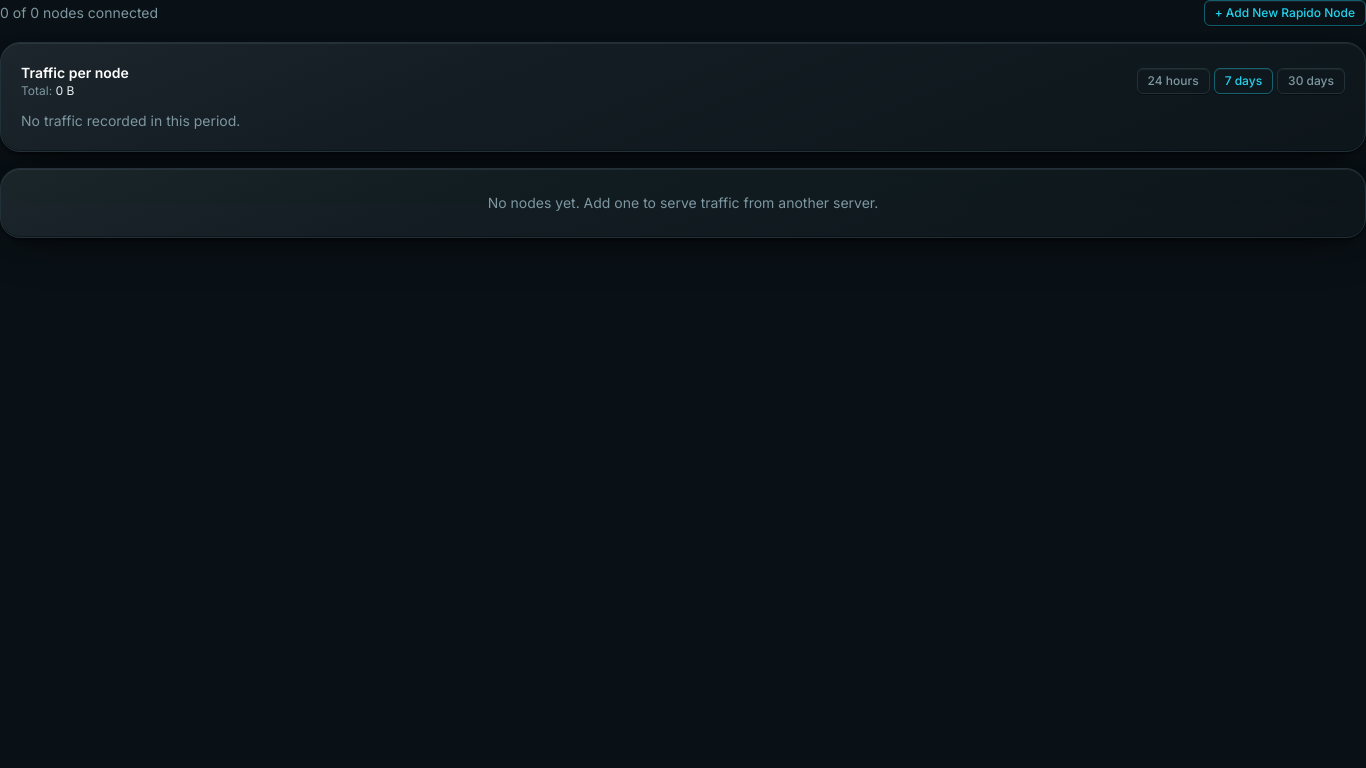
Advanced section of the node form › names the field for a rejected port list and a rejected inbound tag too
Click the button "+ Add New Rapido Node" at (1285, 13), box [1204,0,1365,26]
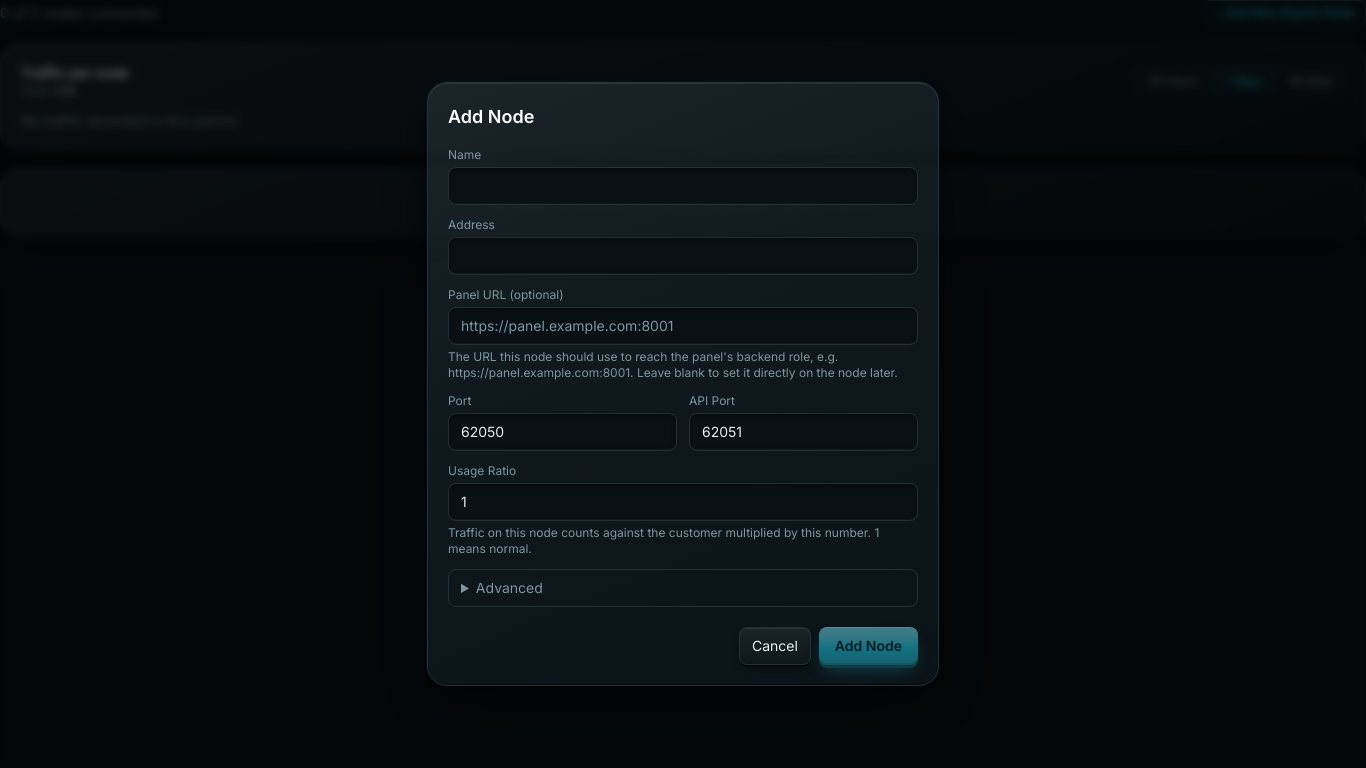
Type "fresh" into the field labelled "Name" at (683, 186), box [448,167,918,205]
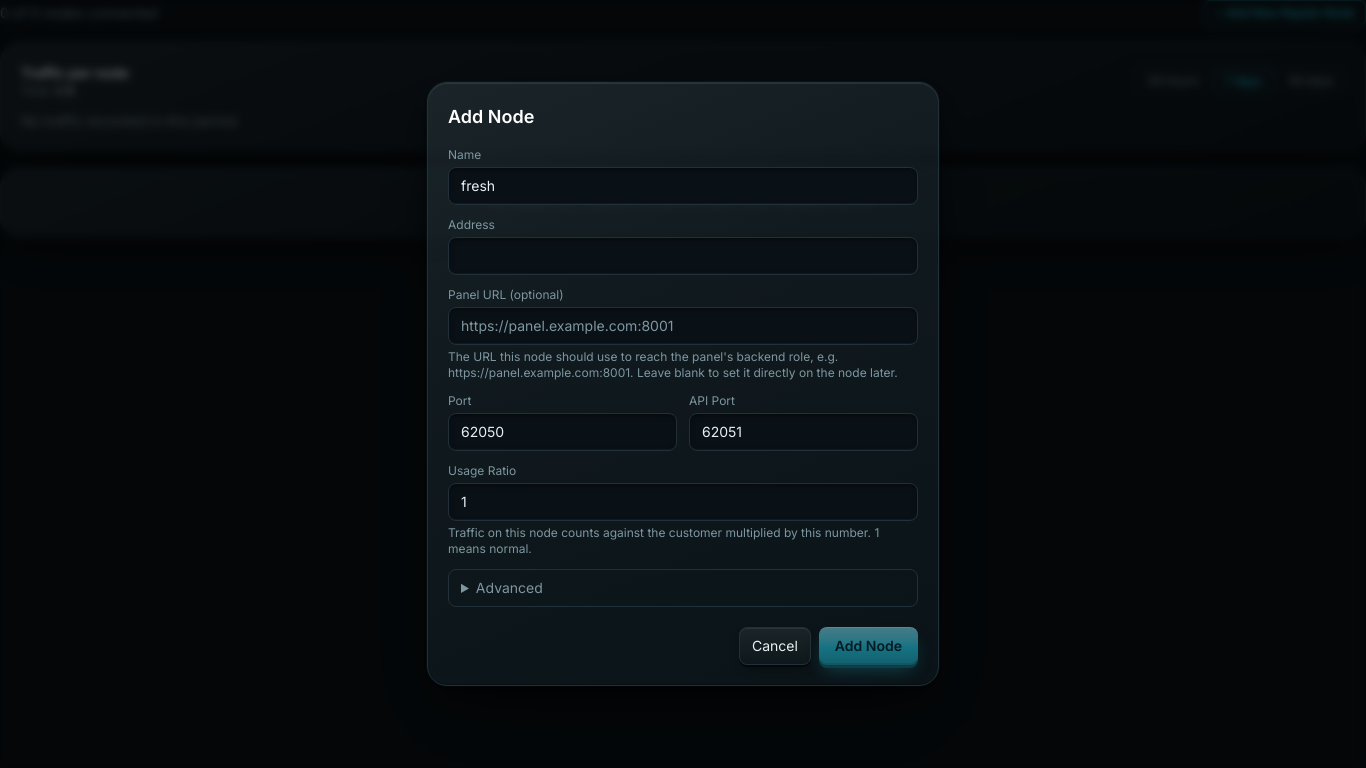
Type "203.0.113.5" into the field labelled "Address" at (683, 256), box [448,237,918,275]
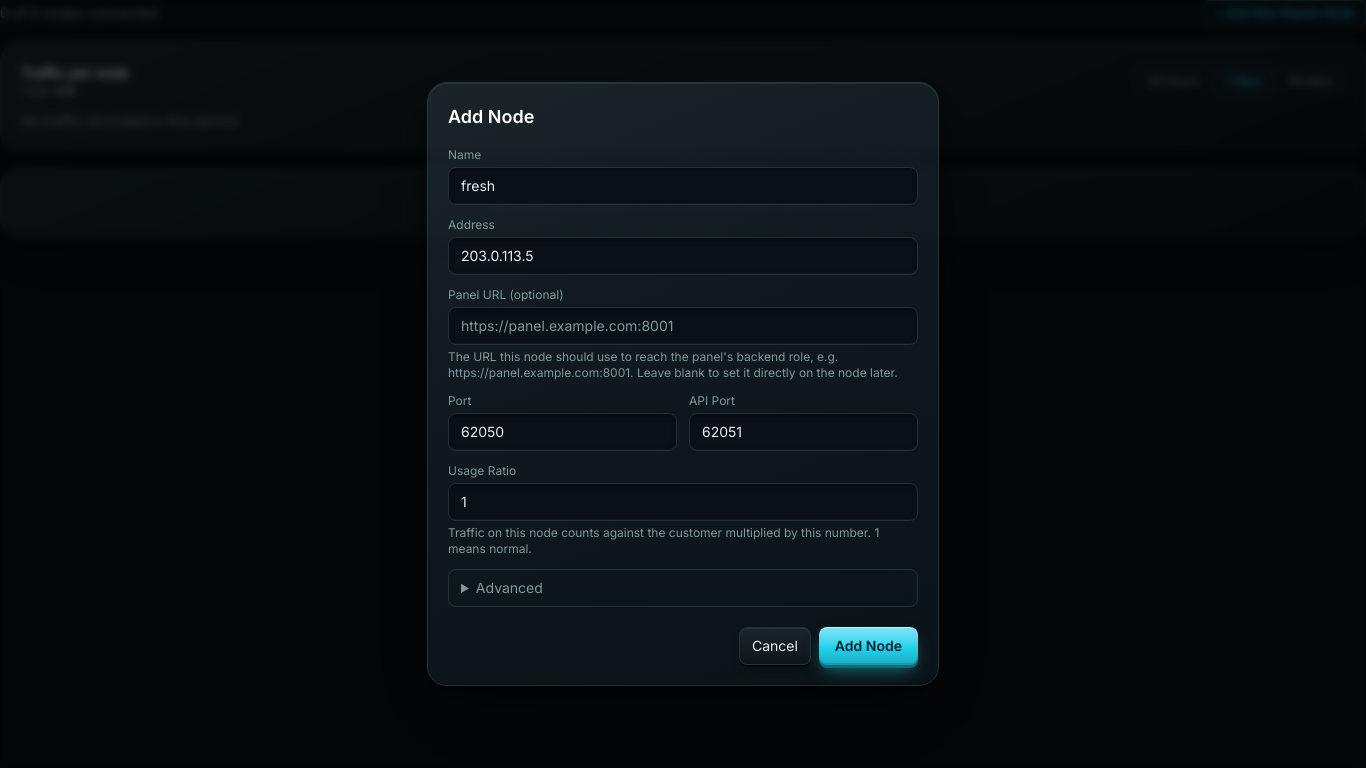
Click the button "Add Node" at (868, 646), box [819,627,918,665]
(page scrolled)
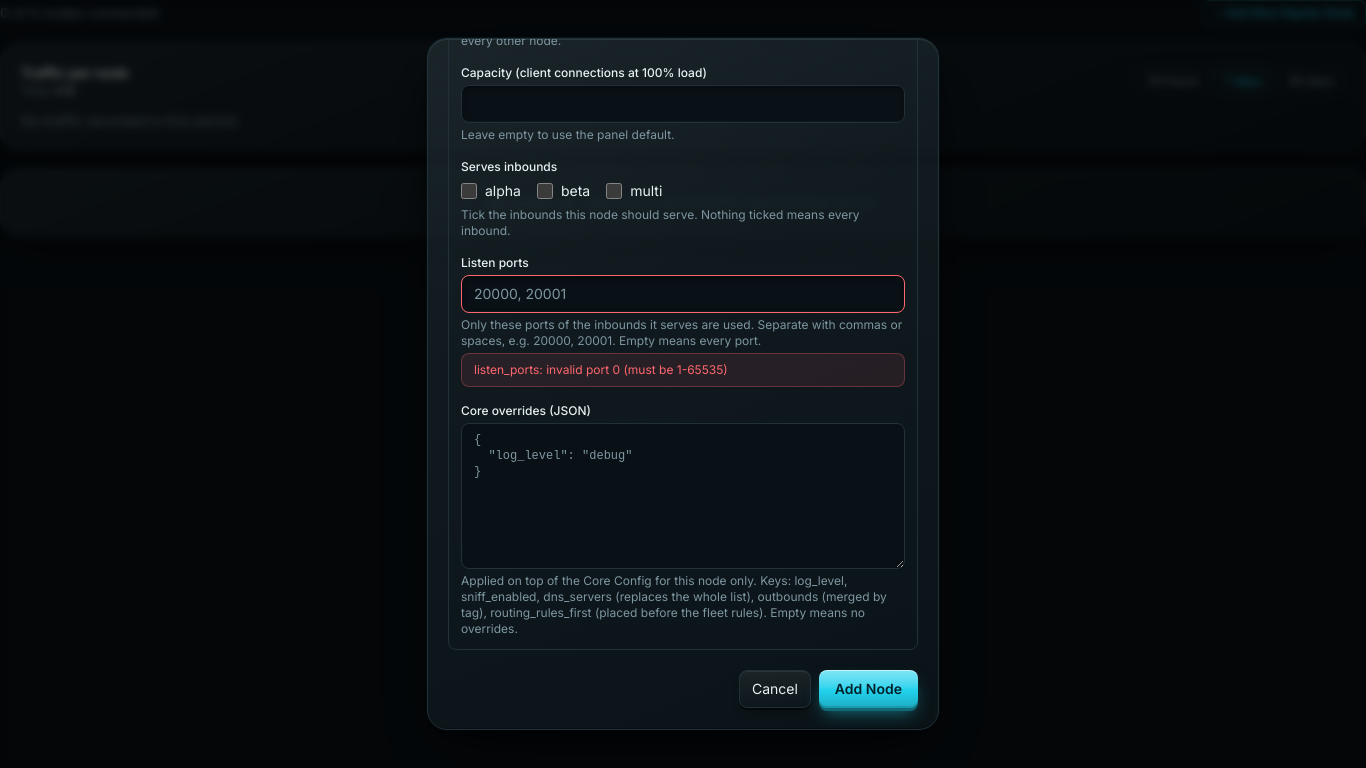
Expected: the message shows "listen_ports: invalid port 0", [474,362,728,377]
Click the button "Add Node" at (868, 689), box [819,670,918,708]
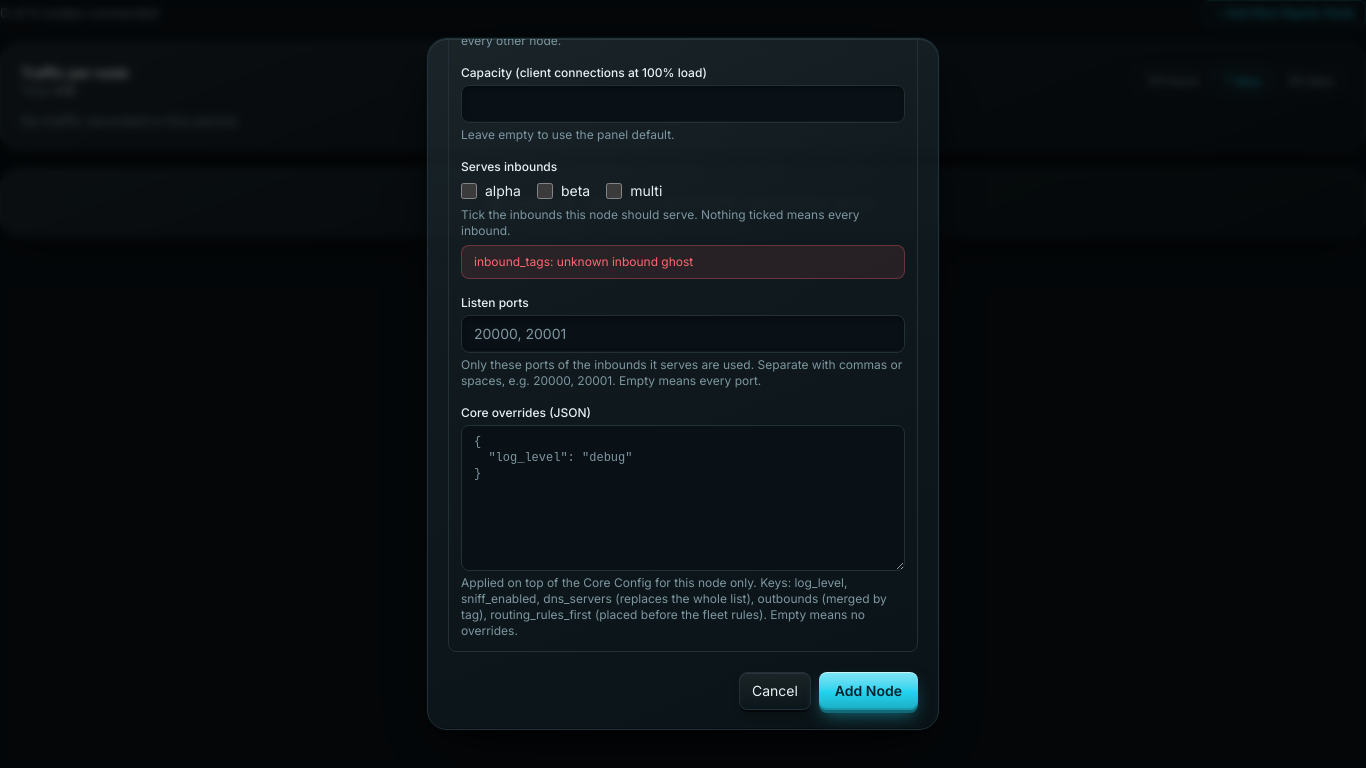
Expected: the message reads "inbound_tags: unknown inbound ghost", [474,254,693,269]
